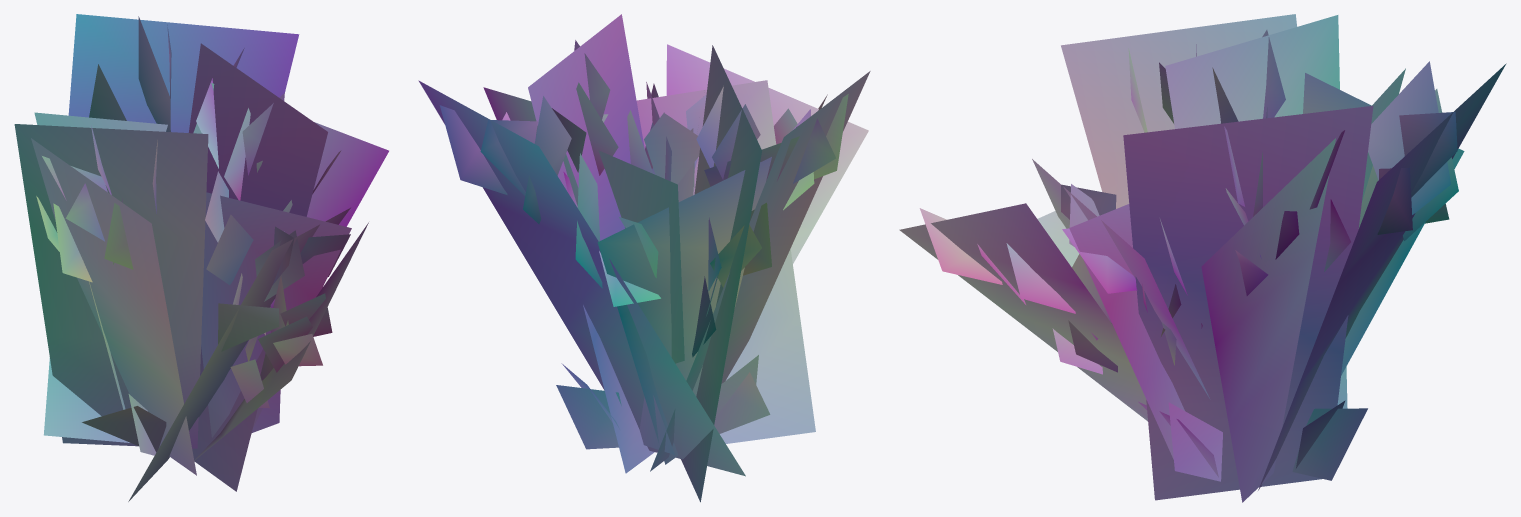
The picture shows the model from 3 angles, left to right: view 1: azimuth 30°, elevation 25°; view 2: azimuth 150°, elevation 25°; view 3: azimuth 270°, elevation 25°; orthographic projection. The views are drawn at different scales.
Visible parts, largest first — view 1: SM_BS_Oleander_160cm; view 2: SM_BS_Oleander_160cm; view 3: SM_BS_Oleander_160cm.
Part boxes in pixels (box(x1,y1,x2,y2)): SM_BS_Oleander_160cm: box(14, 14, 388, 501); SM_BS_Oleander_160cm: box(418, 14, 870, 502); SM_BS_Oleander_160cm: box(899, 14, 1506, 502).
Bounding box in the file's own units: 76.8 × 55.4 × 62.83.
